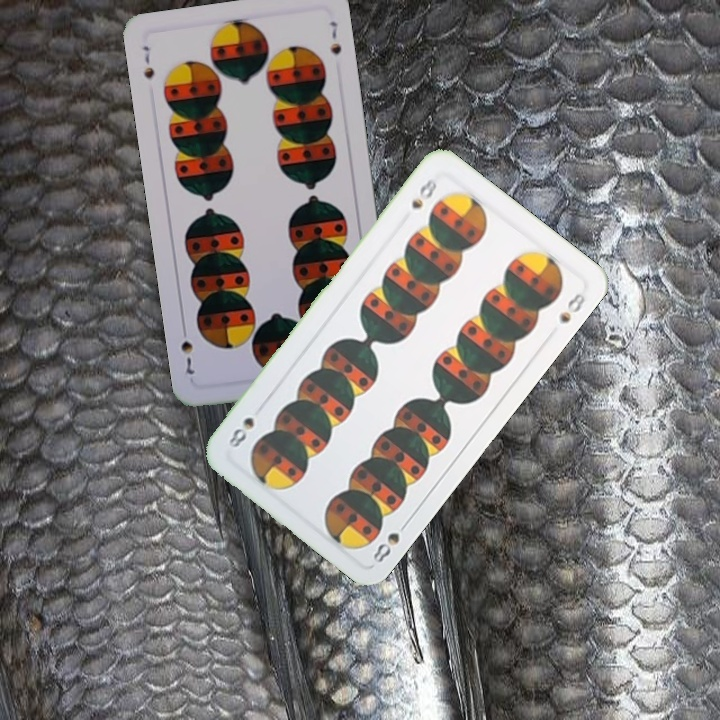S7: (138, 42, 157, 82)
S8: (368, 516, 412, 566), (407, 174, 440, 212)
